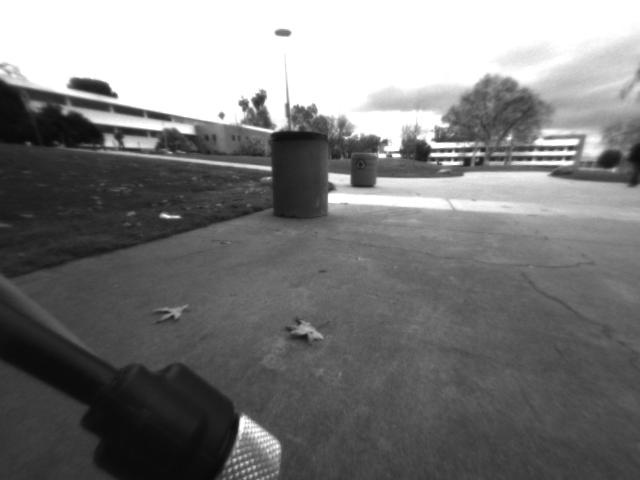trashcan: (261, 121, 336, 224), (347, 147, 382, 194)
